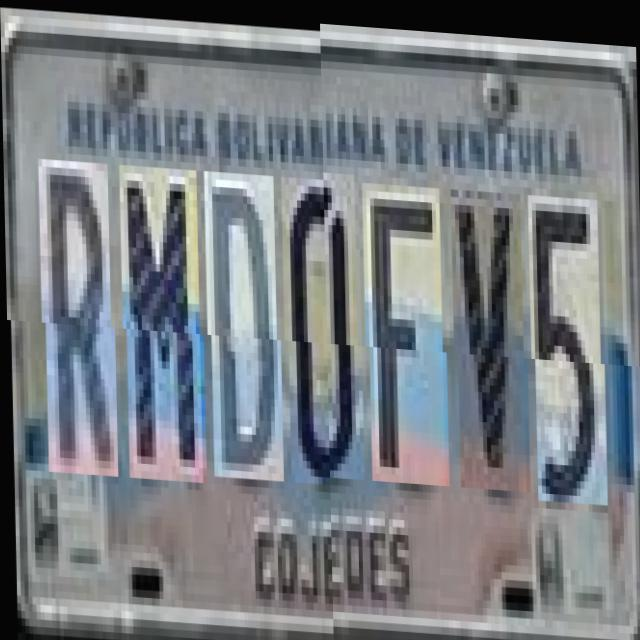0: (284, 173, 363, 482)
5: (531, 195, 606, 504)
D: (207, 168, 282, 478)
F: (366, 185, 448, 487)
M: (123, 163, 205, 480)
R: (42, 158, 116, 476)
V: (454, 190, 529, 492)
